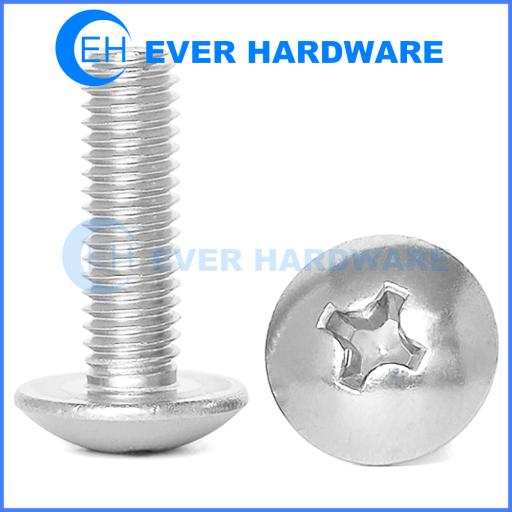Phillips: (263, 230, 495, 472)
